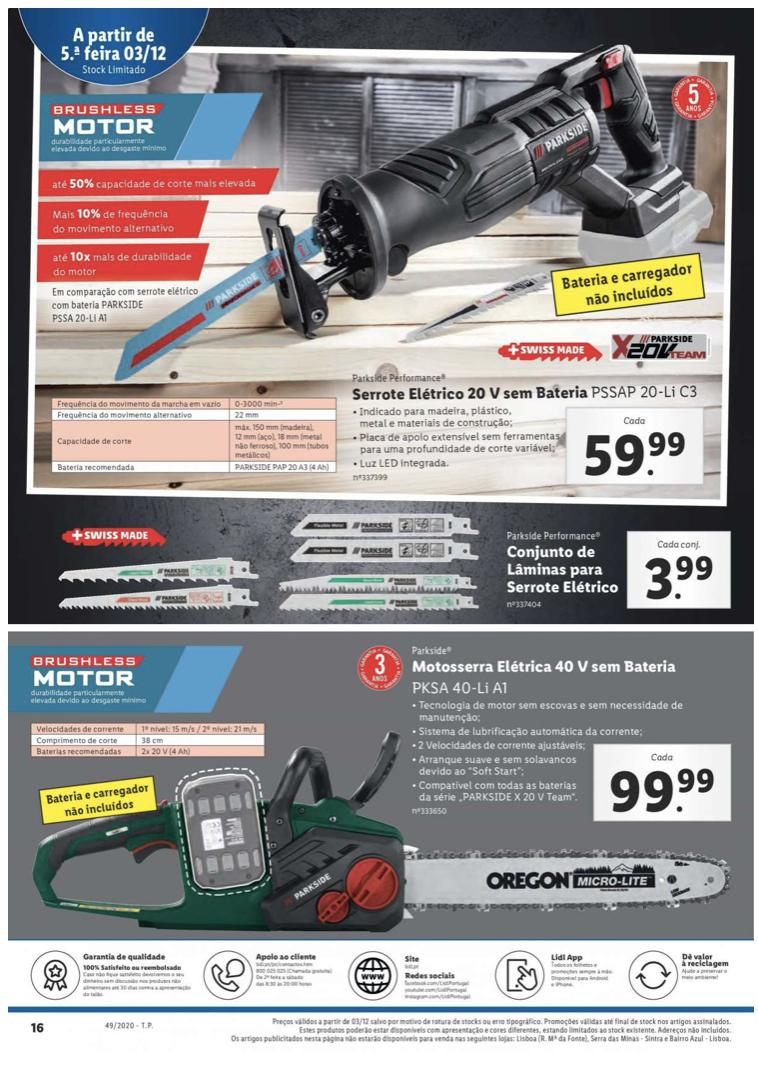name: (412, 655, 683, 681), (503, 544, 624, 600), (348, 384, 592, 403)
price: (582, 425, 696, 481), (600, 767, 722, 816), (638, 551, 723, 604)
product: (47, 57, 711, 496), (19, 636, 755, 940), (38, 511, 742, 617)
